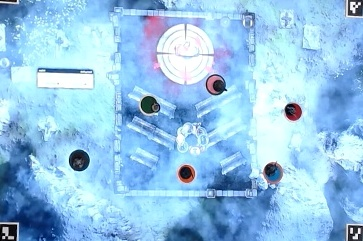brown_turquoise: (66, 150, 89, 173)
green: (139, 94, 161, 117)
light_blue_orange: (263, 160, 286, 183)
orange: (175, 163, 197, 186)
pink_green: (205, 74, 228, 97)
red: (283, 104, 306, 127)
